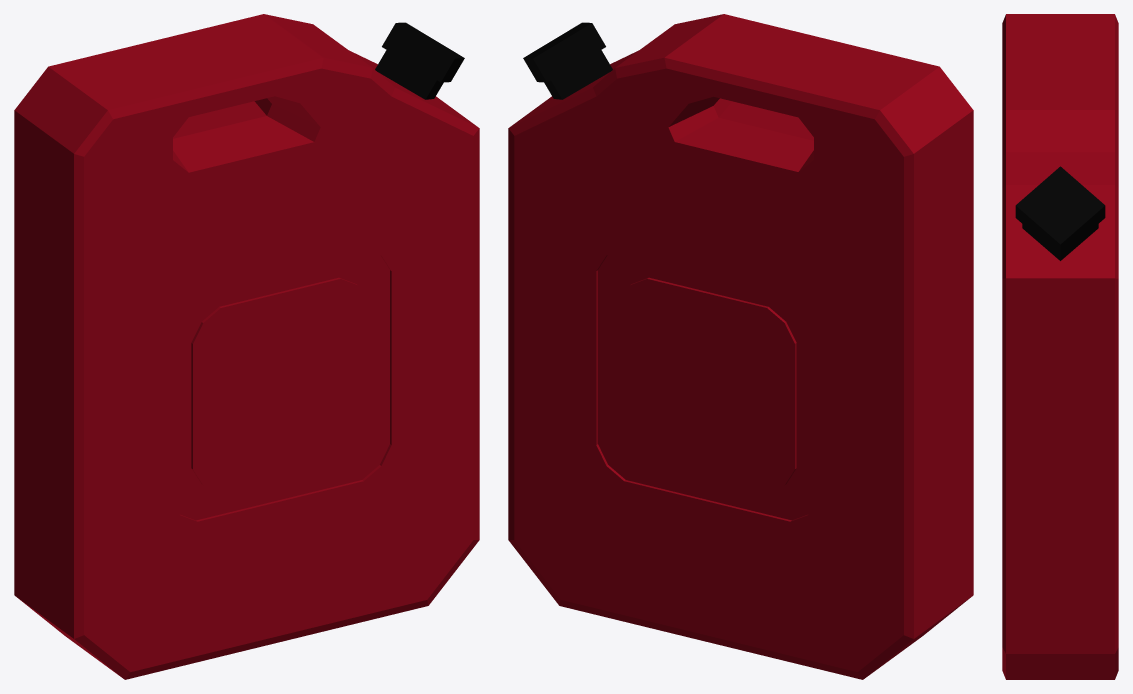
Rendered from FuelCarnister.fbx.
The picture shows the model from 3 angles, left to right: view 1: azimuth 30°, elevation 25°; view 2: azimuth 150°, elevation 25°; view 3: azimuth 270°, elevation 25°; orthographic projection. The views are drawn at different scales.
Parts seen in each view (by area): view 1: Cube, Cube.001; view 2: Cube, Cube.001; view 3: Cube, Cube.001.
Boxes of the visible parts, x1,y1,x2,y2 form: Cube: [14, 14, 479, 679]; Cube.001: [375, 22, 464, 99]; Cube: [508, 14, 973, 679]; Cube.001: [523, 22, 612, 99]; Cube: [1002, 14, 1118, 679]; Cube.001: [1015, 166, 1105, 260].
Size of the model in its own units: 329 by 429 by 86.19.
